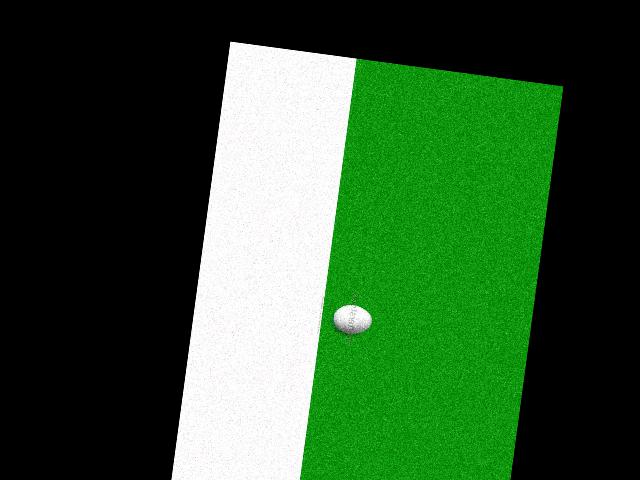egg: (331, 302, 373, 336)
